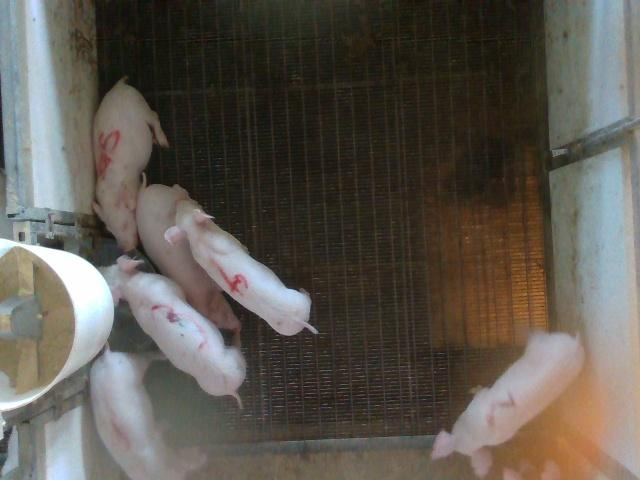pig-1: (90, 349, 166, 479)
pig-2: (431, 332, 584, 477)
pig-3: (100, 255, 246, 403)
pig-4: (165, 200, 318, 336)
pig-5: (92, 78, 169, 252)
